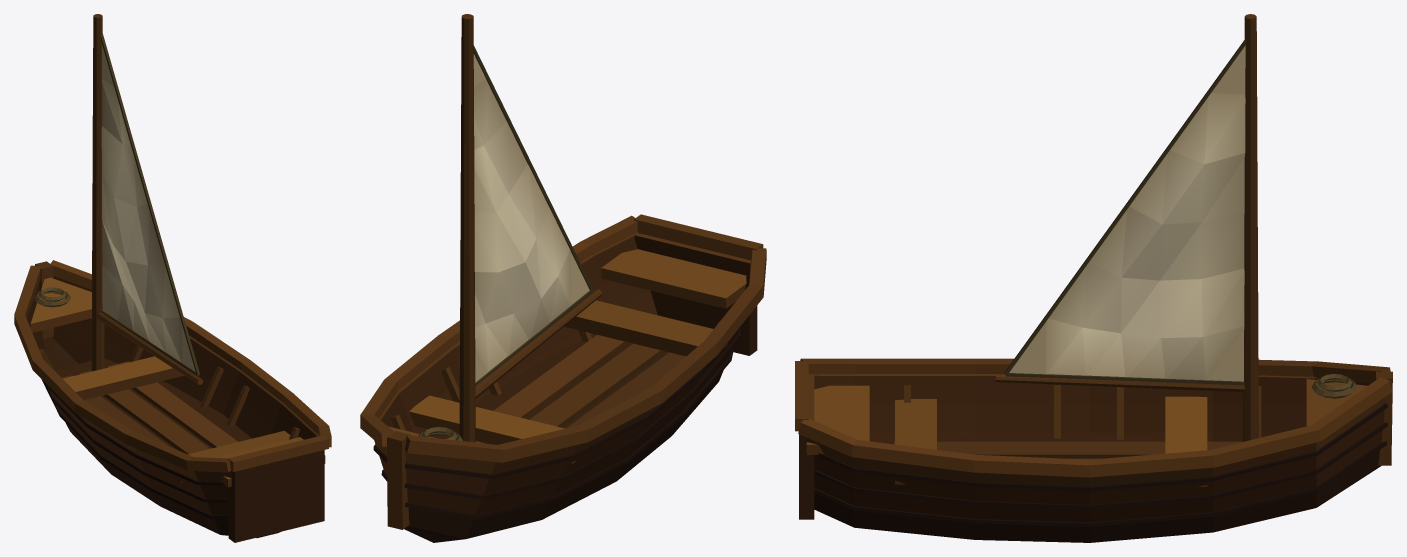
The model's file is Dinghy.glb.
3 renders of one model, left to right at view 1: azimuth 30°, elevation 25°; view 2: azimuth 150°, elevation 25°; view 3: azimuth 270°, elevation 25°, orthographic. The views are drawn at different scales.
Parts seen in each view (by area): view 1: DinghyHull, DinghySail, DinghyMast, DinghySailEdges, DinghyBoom; view 2: DinghyHull, DinghySail, DinghyMast, DinghySailEdges, DinghyBoom; view 3: DinghyHull, DinghySail, DinghyMast, DinghySailEdges, DinghyBoom.
Boxes of the visible parts, x1,y1,x2,y2 form: DinghyHull: [14, 260, 331, 542]; DinghySail: [101, 44, 195, 371]; DinghyMast: [82, 14, 104, 373]; DinghySailEdges: [101, 33, 199, 376]; DinghyBoom: [96, 312, 203, 384]; DinghyHull: [360, 214, 766, 542]; DinghySail: [473, 54, 589, 382]; DinghyMast: [459, 14, 475, 442]; DinghySailEdges: [473, 45, 593, 385]; DinghyBoom: [475, 289, 602, 398]; DinghyHull: [795, 358, 1392, 542]; DinghySail: [1009, 45, 1245, 381]; DinghyMast: [1242, 14, 1258, 441]; DinghySailEdges: [1004, 39, 1246, 385]; DinghyBoom: [995, 374, 1244, 392].
Bounding box in the file's own units: 1.8 × 4.07 × 4.27.
